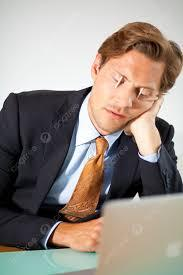Drowsy: (88, 23, 179, 149)
